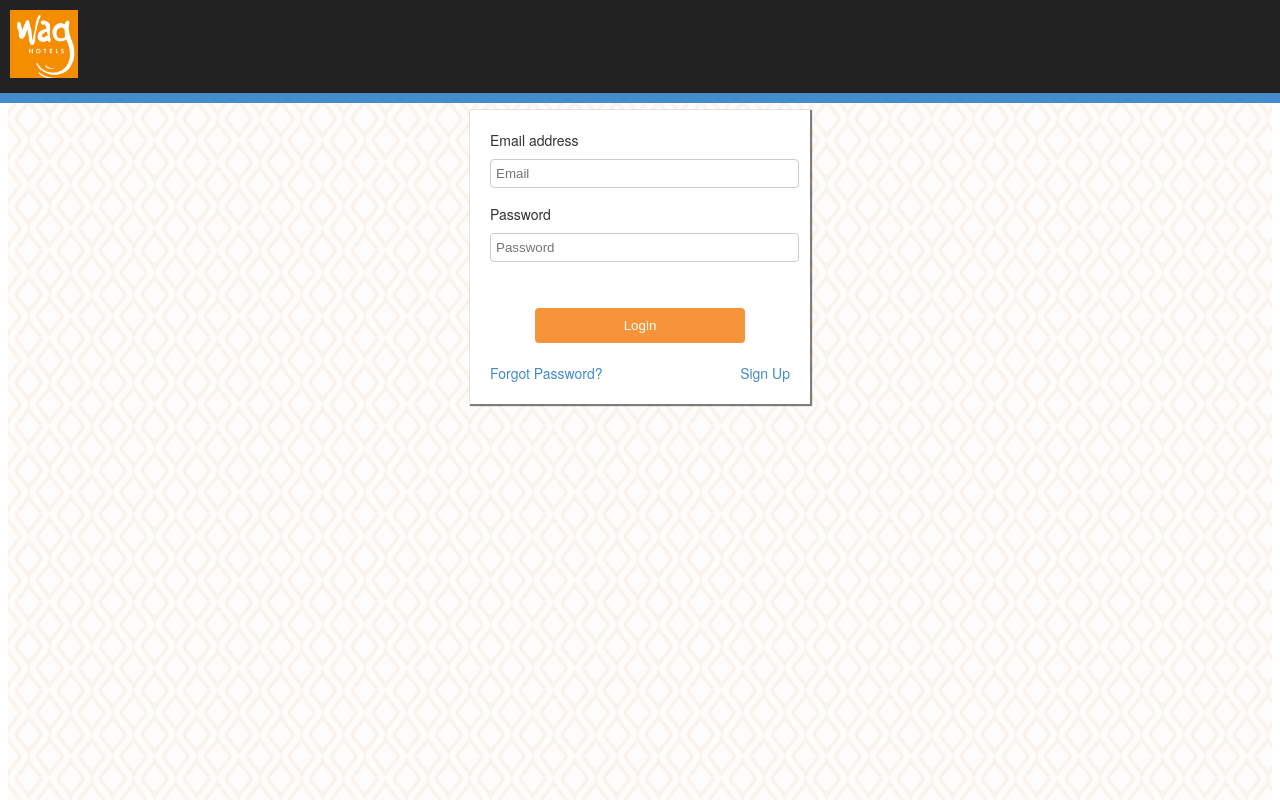
Login Component › handles login failure
// Set username and password
In the field labelled "Email address": [644, 174] box [490, 159, 799, 188], type "test@example.com"
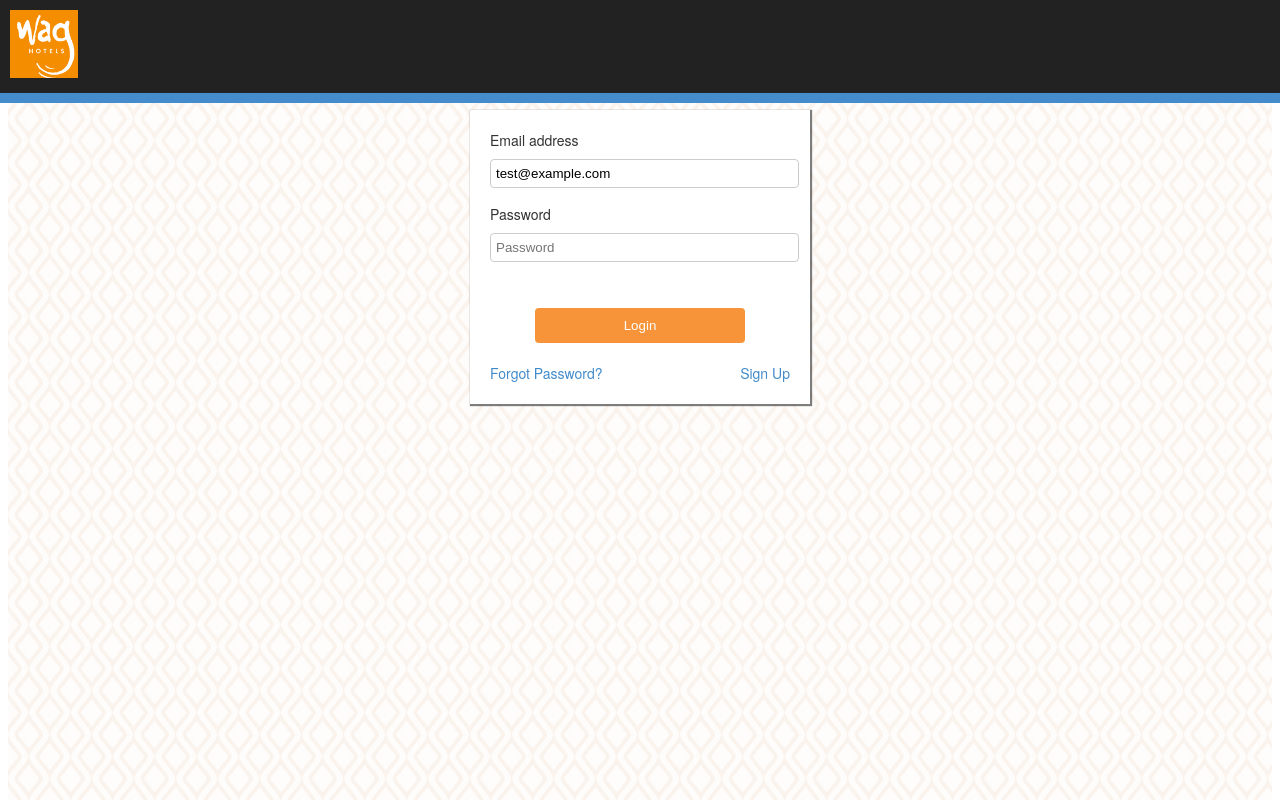
In the password field labelled "Password": [644, 248] box [490, 233, 799, 262], type "wrongpassword"
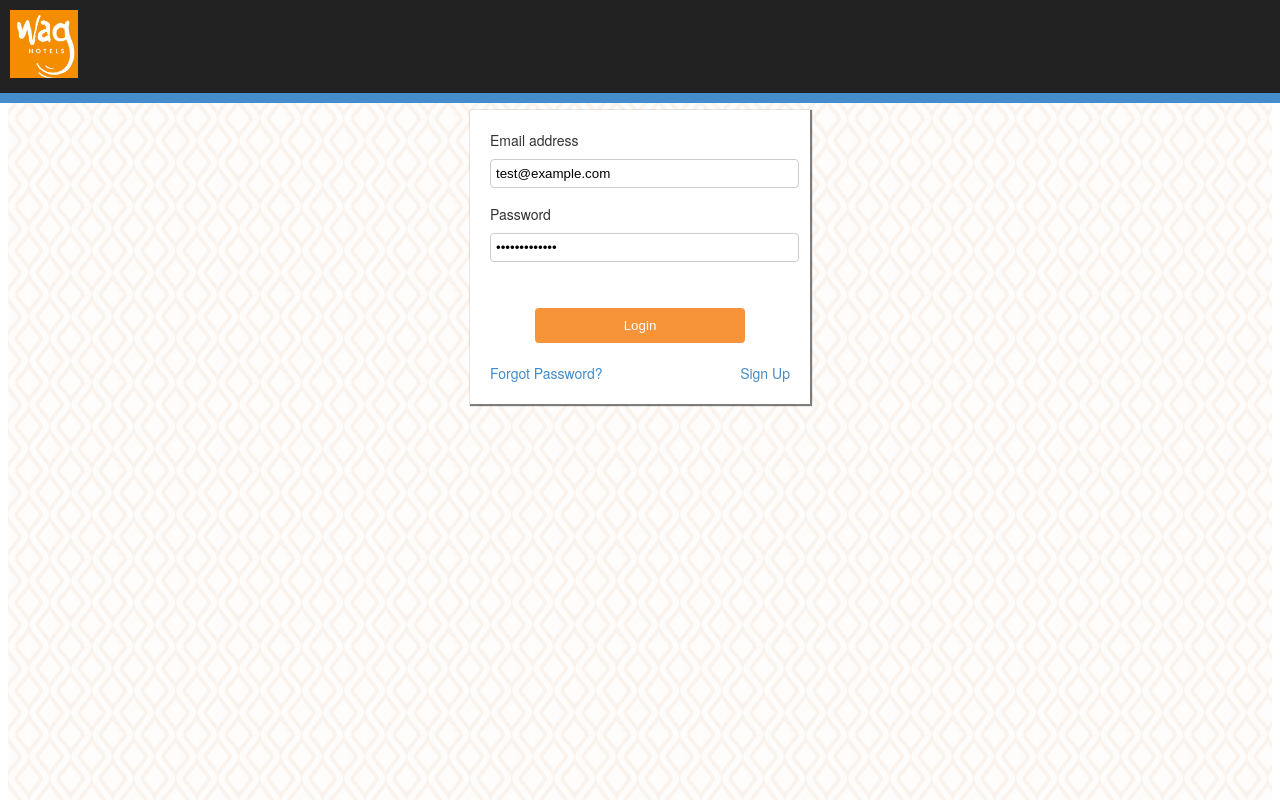
// Submit the form
Submit the form with test id "login-form", box [470, 110, 810, 404]
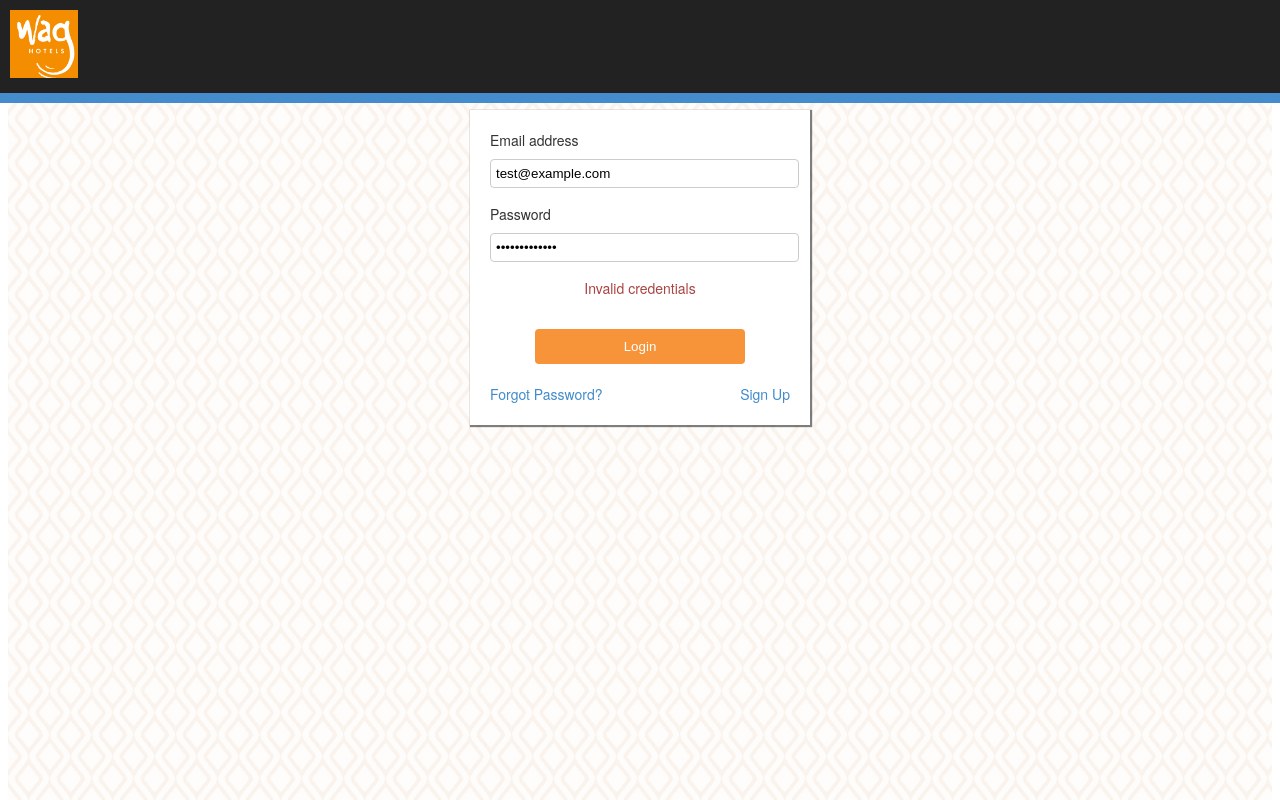
Expected: the text with test id "error-message" reads "Invalid credentials", [584, 278, 696, 298]
